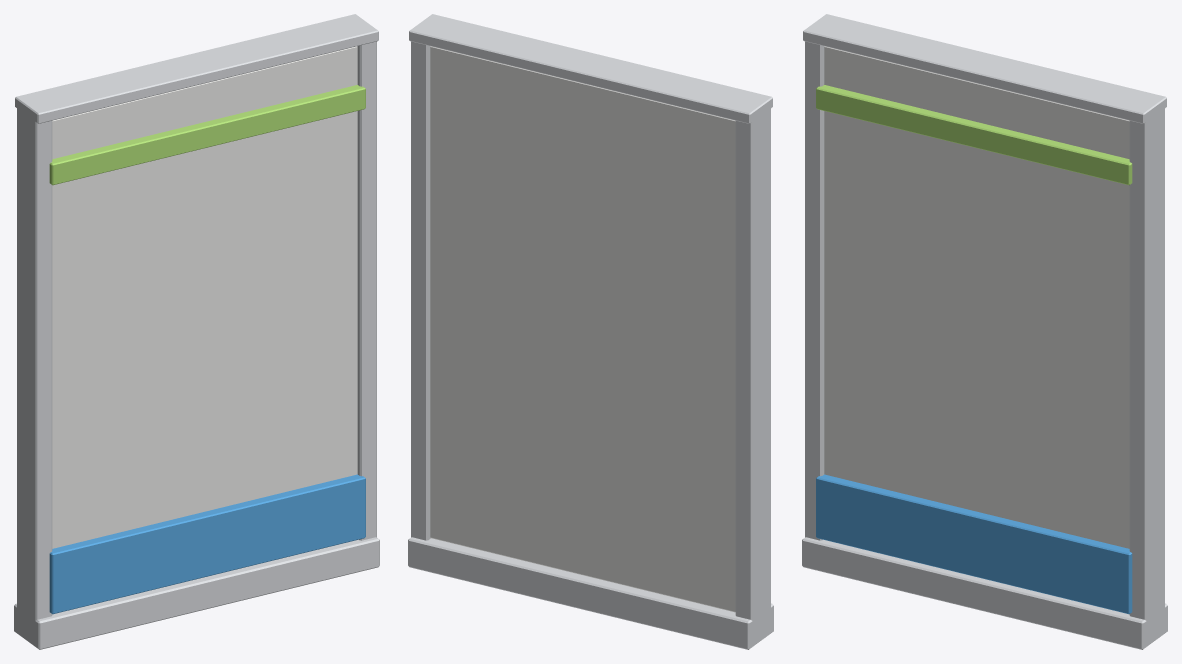
The model's file is trampoline-park-and-soft-play-wall-panel-module-0de93a20__34631.glb.
3 renders of one model, left to right at view 1: azimuth 30°, elevation 25°; view 2: azimuth 150°, elevation 25°; view 3: azimuth 330°, elevation 25°, orthographic.
Visible parts, largest first — view 1: wall-panel-module; view 2: wall-panel-module; view 3: wall-panel-module.
Boxes of the visible parts, bbox=[...] form: wall-panel-module: bbox=[14, 14, 379, 649]; wall-panel-module: bbox=[408, 14, 773, 649]; wall-panel-module: bbox=[802, 14, 1167, 649].
Bounding box in the file's own units: 2 × 3 × 0.26.
